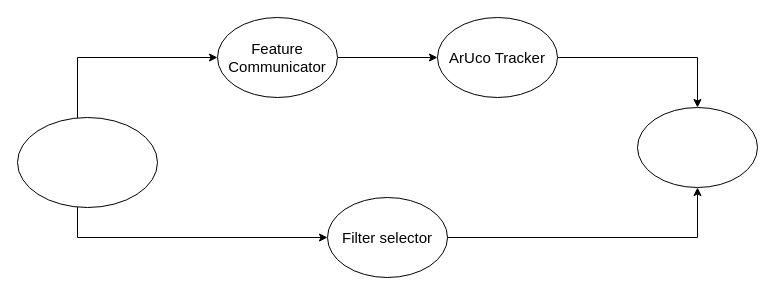
This 775x295 diagram has some shape labels left out. The shapes that lost their labels are listed below. From the top down, each one's centre as x and y in pixels, then its label:
(87,162): Video Capturer or Video Generator
(697,147): Visualizer
